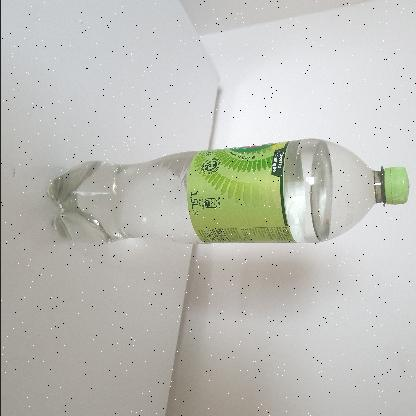Plastic Bottle: (47, 138, 409, 244)
